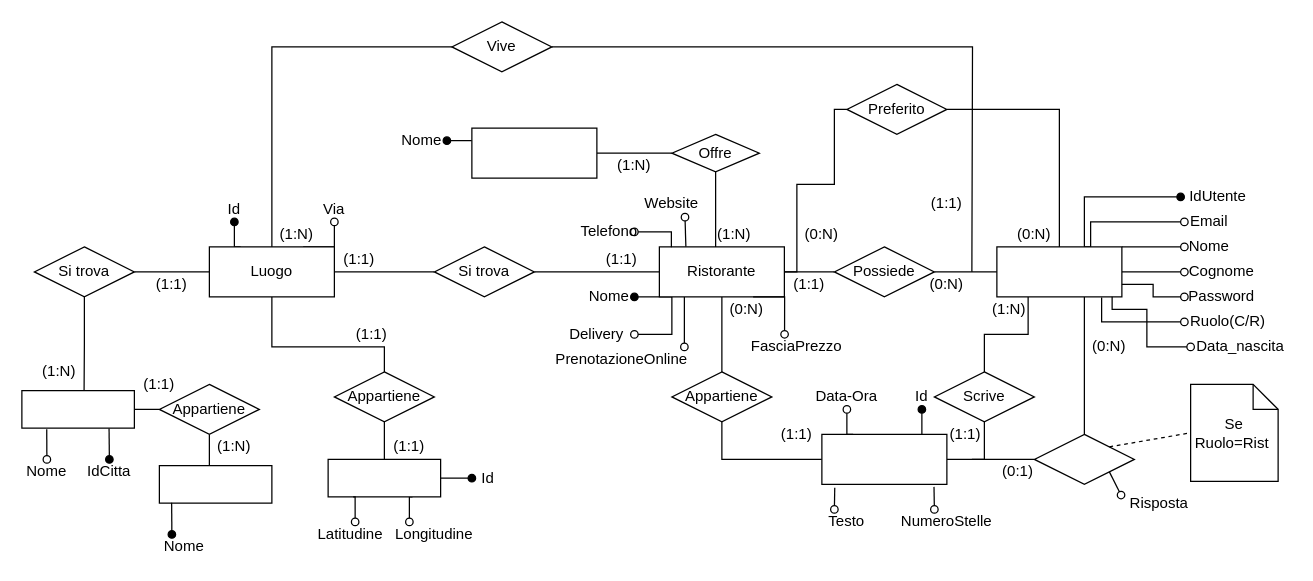
Some shapes in this 1313 by 581 pixel diagram are drawn without their labels. The shapes that lost their labels are listed below. From the top down, each one's centre as x and y in pixels, then its label:
At (x=534, y=152): "TipoCucina".
At (x=1059, y=271): "Utente".
At (x=77, y=408): "Città".
At (x=384, y=477): "Coordinate".
At (x=884, y=458): "Recensione".
At (x=1083, y=458): "Risponde".
At (x=215, y=483): "Nazione".
